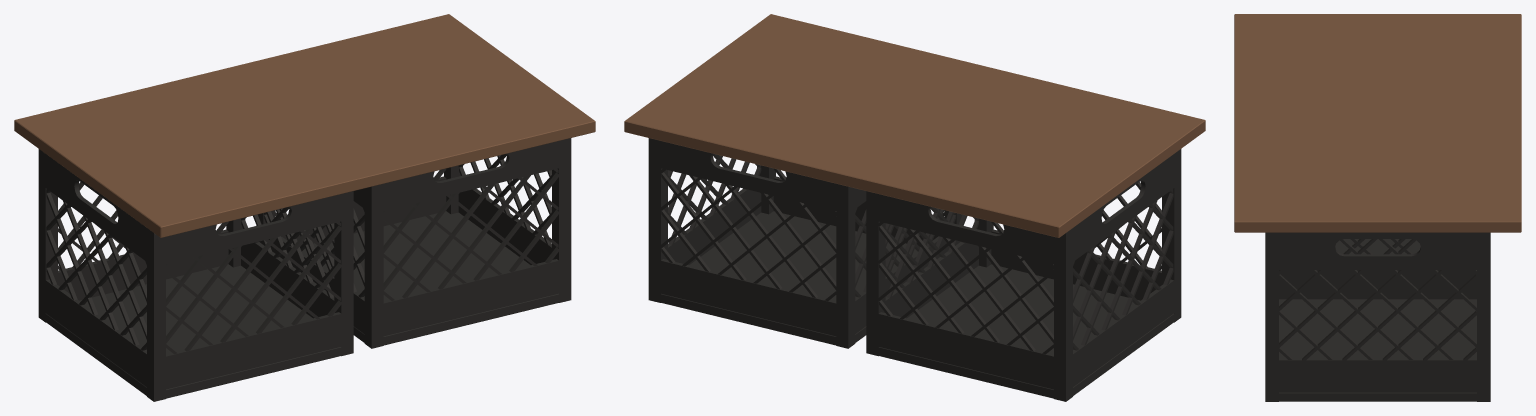
Rendered from bedroom-crate-riser-aa91569ee30a.glb.
3 renders of one model, left to right at view 1: azimuth 30°, elevation 25°; view 2: azimuth 150°, elevation 25°; view 3: azimuth 270°, elevation 25°, orthographic. The views are drawn at different scales.
Visible parts, largest first — view 1: plastic-dark, wood-walnut; view 2: plastic-dark, wood-walnut; view 3: wood-walnut, plastic-dark.
Boxes of the visible parts, x1,y1,x2,y2 form: plastic-dark: (38, 138, 571, 401); wood-walnut: (14, 14, 595, 237); plastic-dark: (648, 138, 1181, 401); wood-walnut: (624, 14, 1205, 237); wood-walnut: (1234, 14, 1521, 232); plastic-dark: (1265, 232, 1490, 401).
Size of the model in its own units: 0.72 by 0.298 by 0.42.
